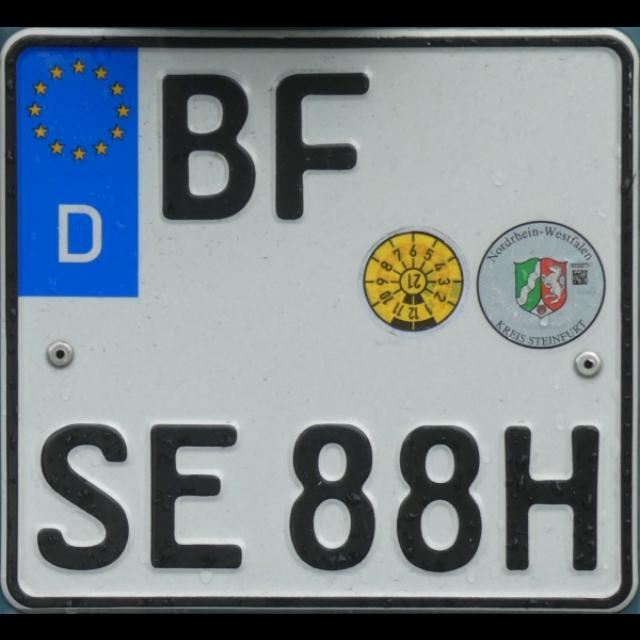d_license_plate: (9, 41, 624, 595)
